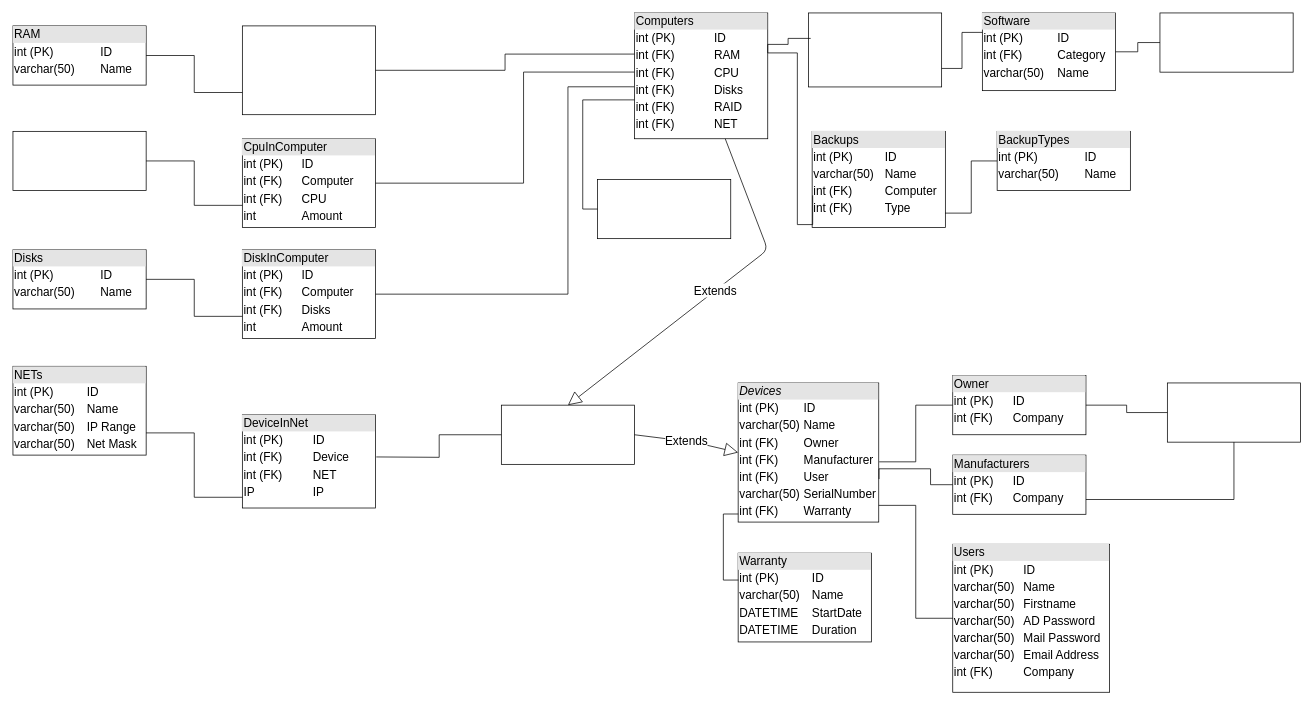
Some shapes in this 1314 by 705 pixel diagram are drawn without their labels. The centre of each missing label's shape, as x and y in pixels:
Companies int (PK) ID varchar(50) Name: (1234,412)
ConnectedDevices int (PK) ID varchar(50) Name: (568,434)
CPU int (PK) ID varchar(50) Name: (79,161)
RAID int (PK) ID varchar(50) Name: (664,209)
RamInComputer int (PK) ID int (FK) Computer int (FK) RAM int Amount: (309,70)
SoftwareCategories int (PK) ID varchar(50) Name: (1226,42)
SoftwareOnComputer int (PK) ID int (FK) Computer int (FK) Software: (875,49)
